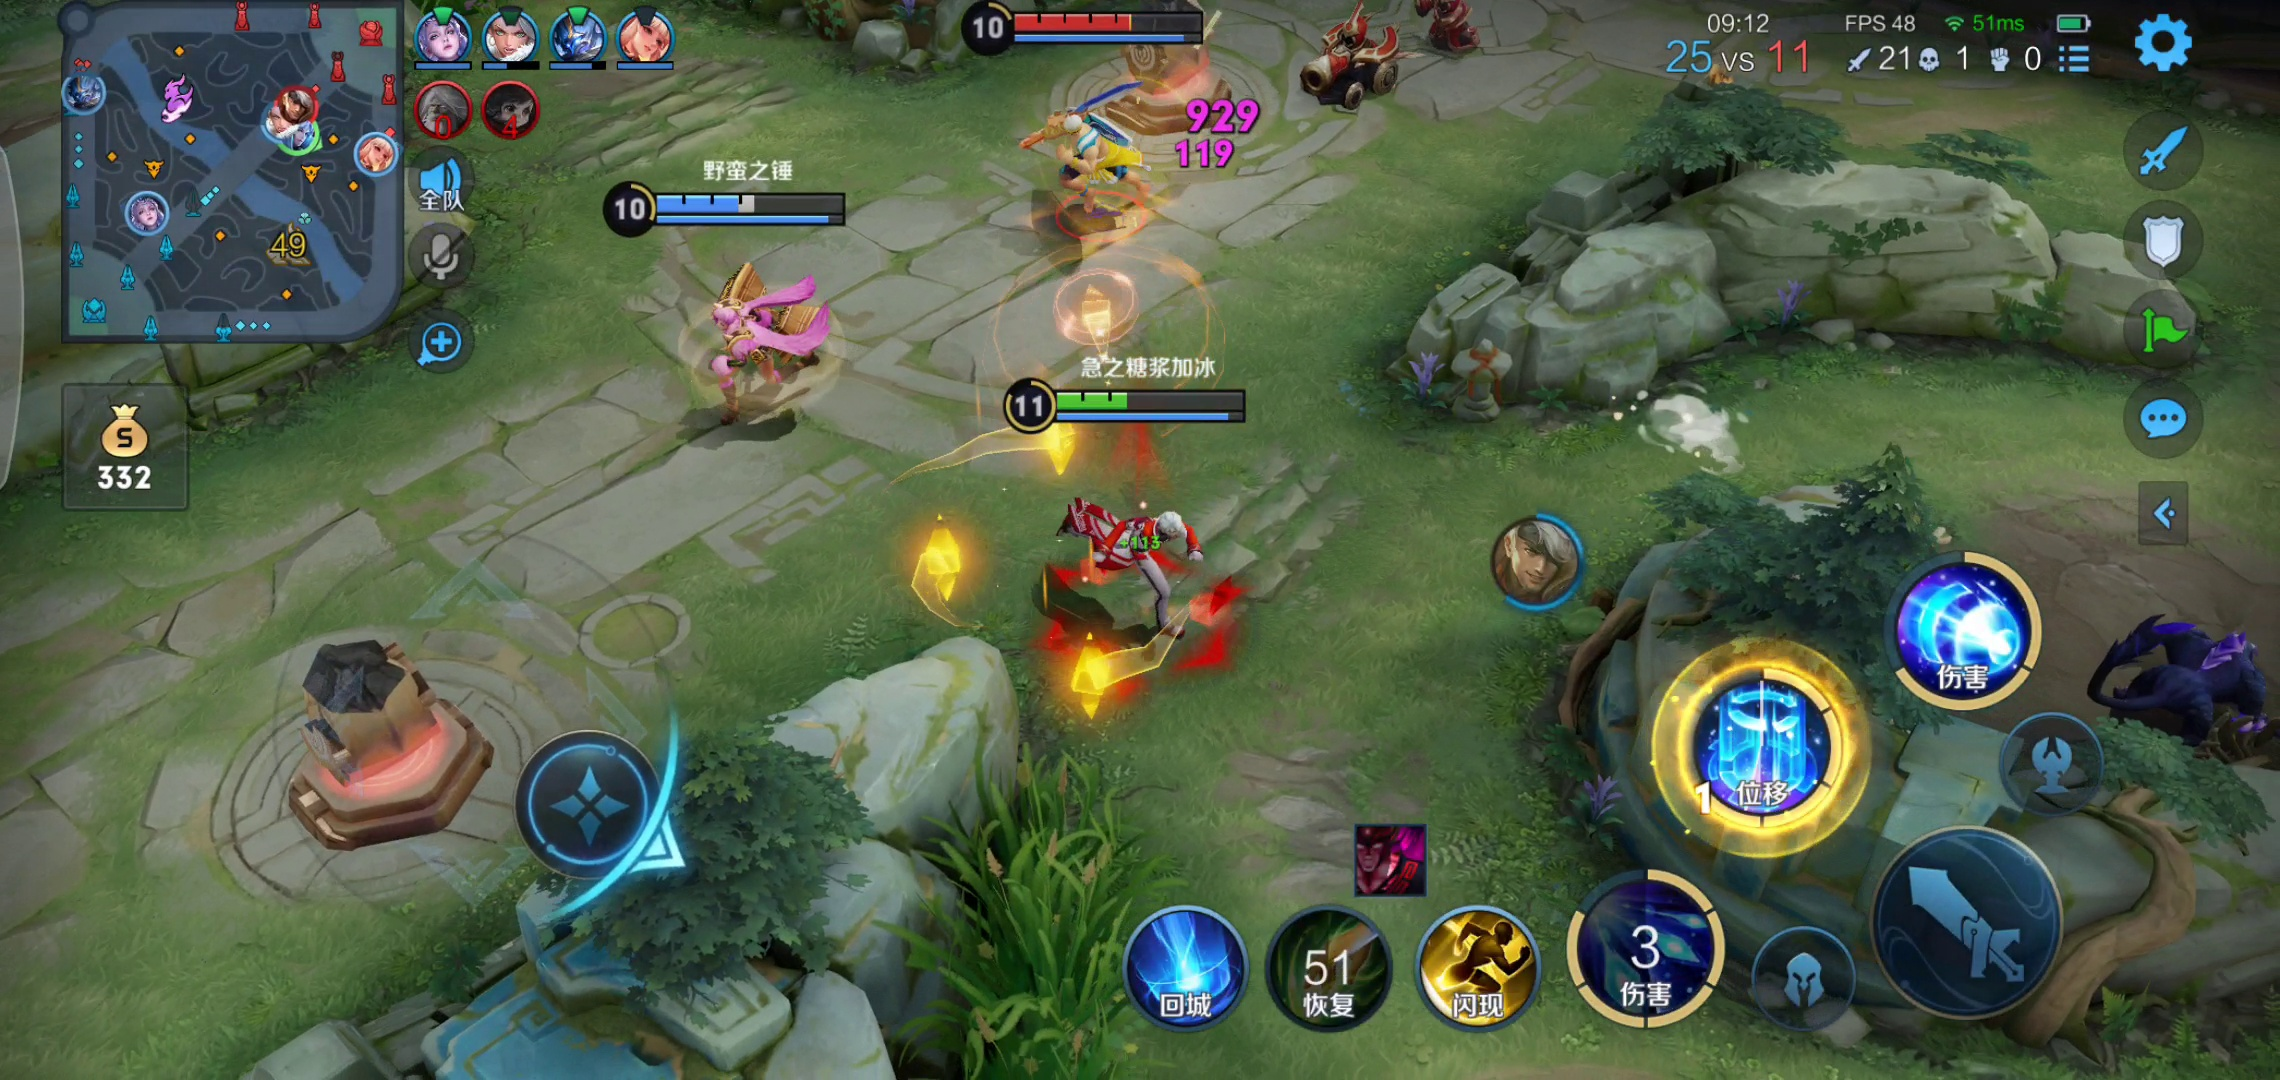grass: (923, 760, 1152, 1080)
hero: (1015, 475, 1249, 688), (666, 260, 846, 432), (1003, 93, 1155, 240)
soldier: (1285, 17, 1418, 115), (1419, 1, 1492, 60)
tower: (1120, 15, 1249, 141)
wild_monster: (2069, 595, 2280, 785)
